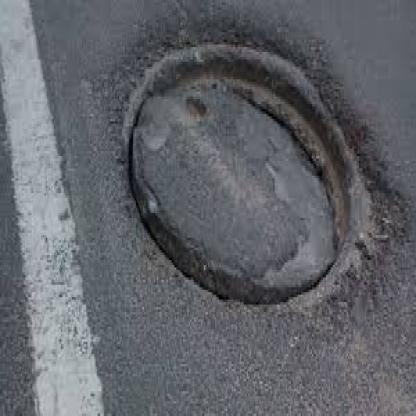manholes: (105, 13, 391, 372)
